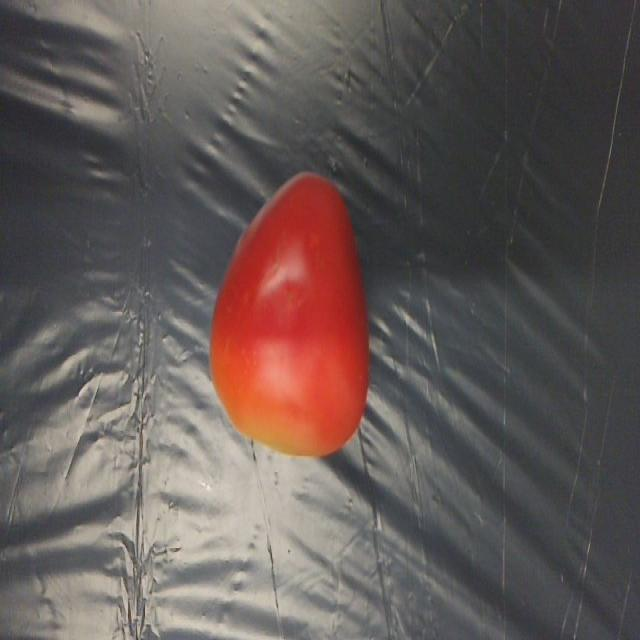sari: (194, 200, 409, 472)
